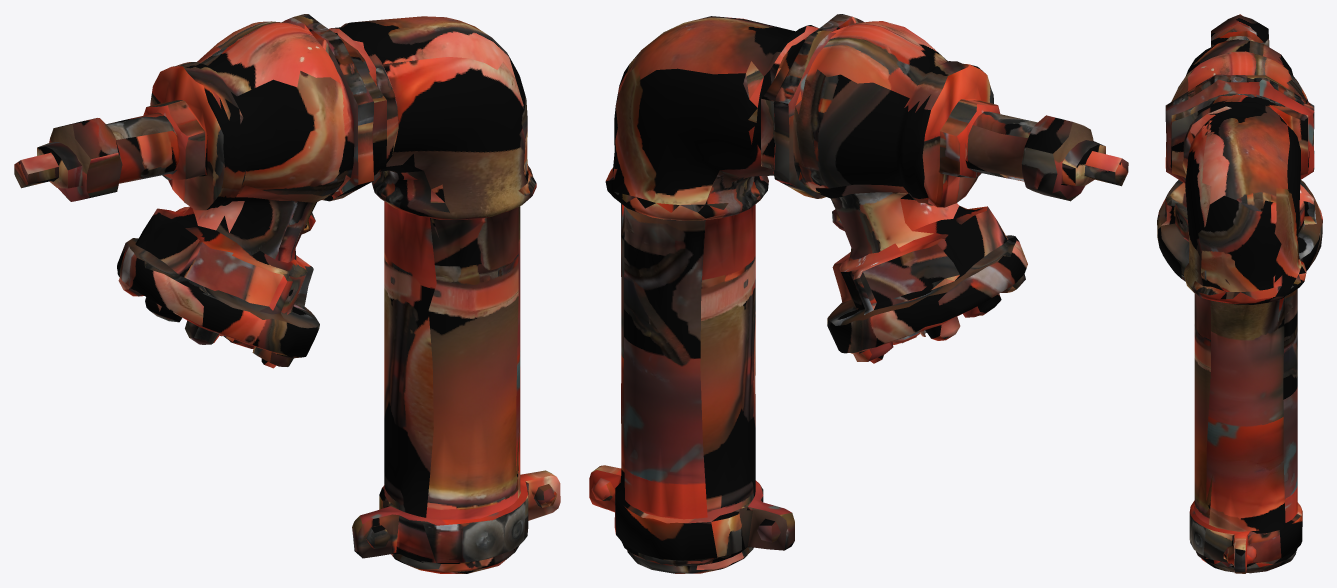
Rendered from hydrant_occ.fbx.
3 views of the same model, side by side, from view 1: azimuth 30°, elevation 25°; view 2: azimuth 150°, elevation 25°; view 3: azimuth 270°, elevation 25° (orthographic). The views are drawn at different scales.
Visible parts, largest first — view 1: Mesh1.0; view 2: Mesh1.0; view 3: Mesh1.0.
Part boxes in pixels (x1,y1,x2,y2): Mesh1.0: [14, 14, 560, 573]; Mesh1.0: [589, 14, 1128, 573]; Mesh1.0: [1157, 14, 1322, 573].
Size of the model in its own units: 1.98 by 2.01 by 0.7006.
1 material, 1 textured.
